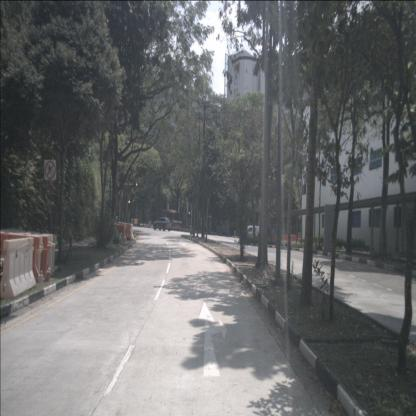barrier: (0, 238, 36, 298), (36, 239, 43, 280), (44, 236, 50, 282), (52, 236, 58, 278), (117, 223, 126, 245), (123, 223, 134, 241)
